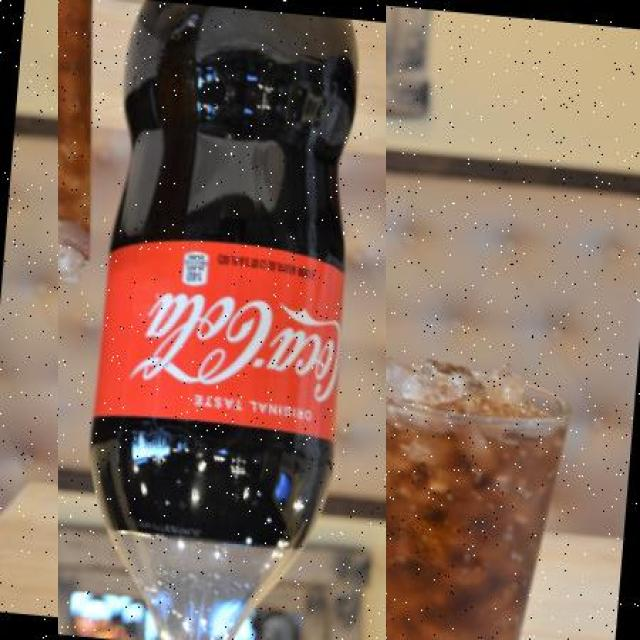coca-cola: (58, 0, 386, 640)
